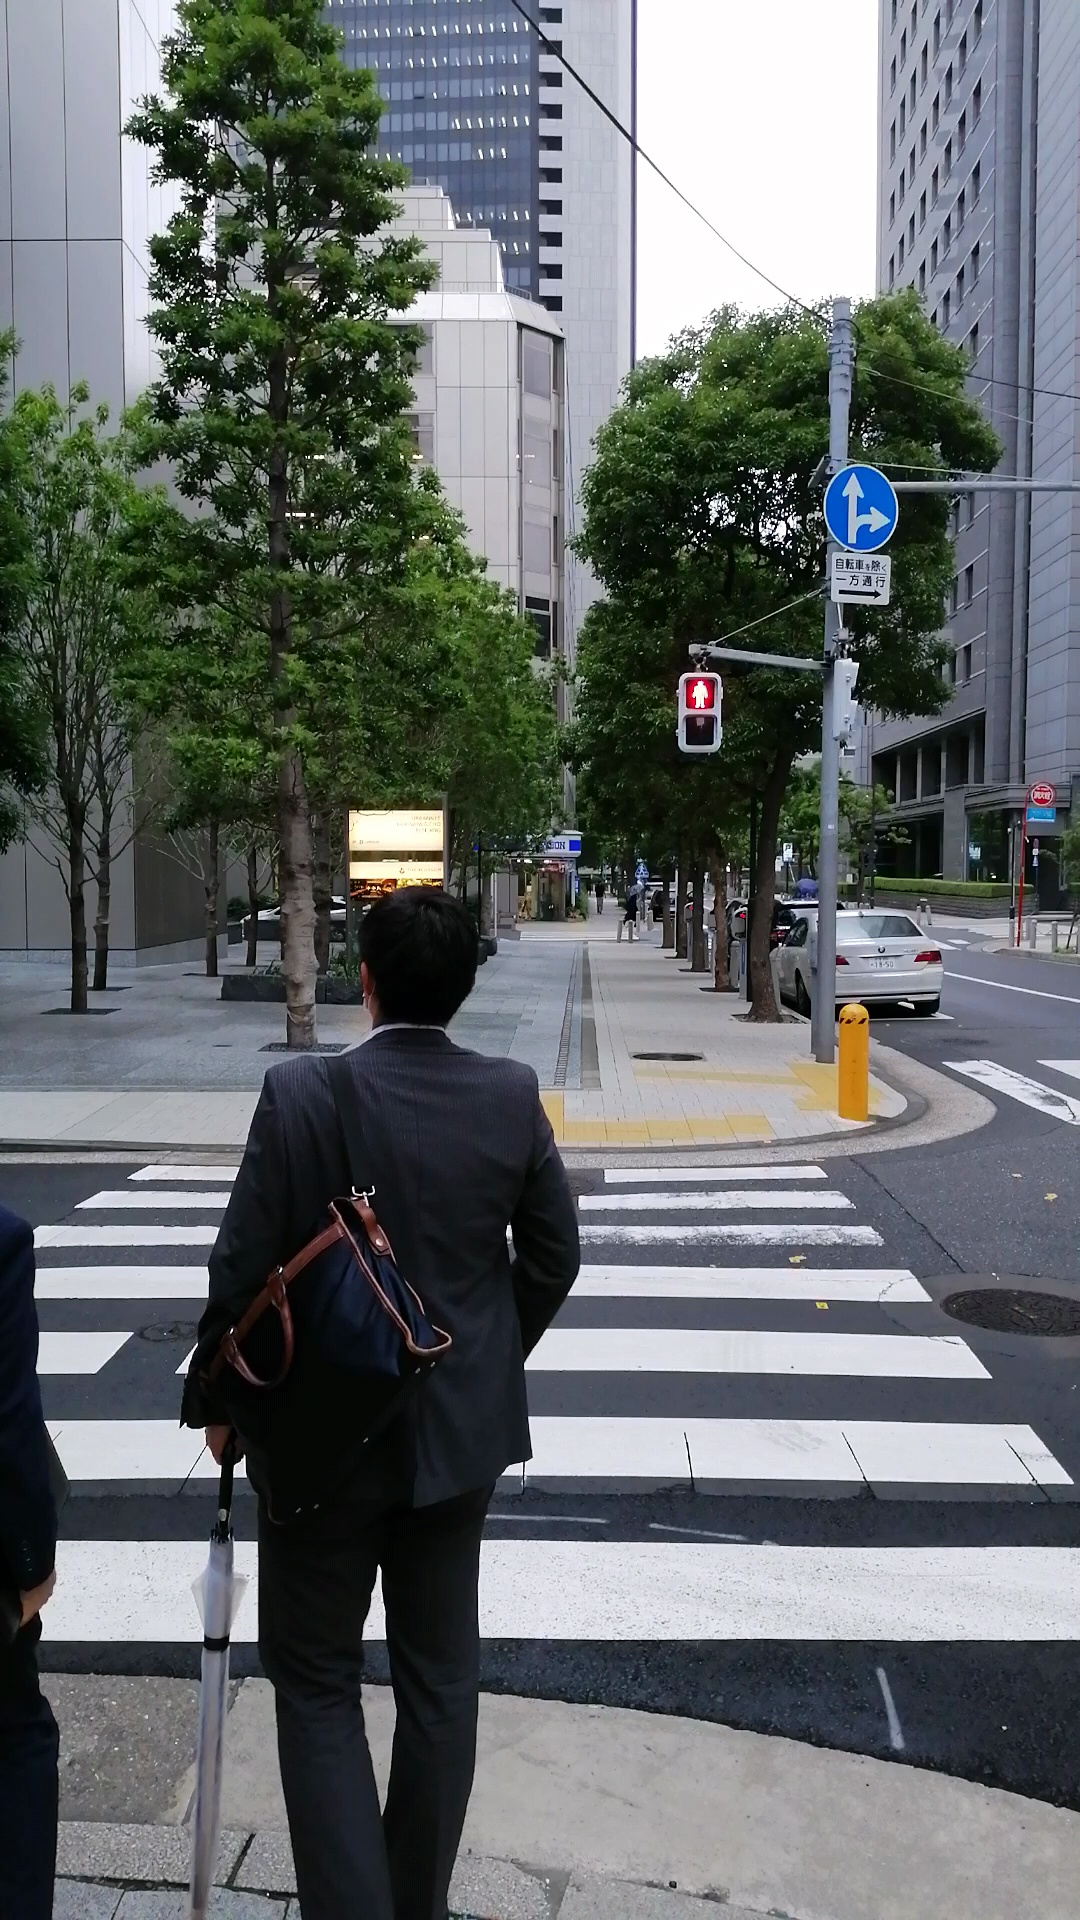red: (676, 670, 721, 752)
